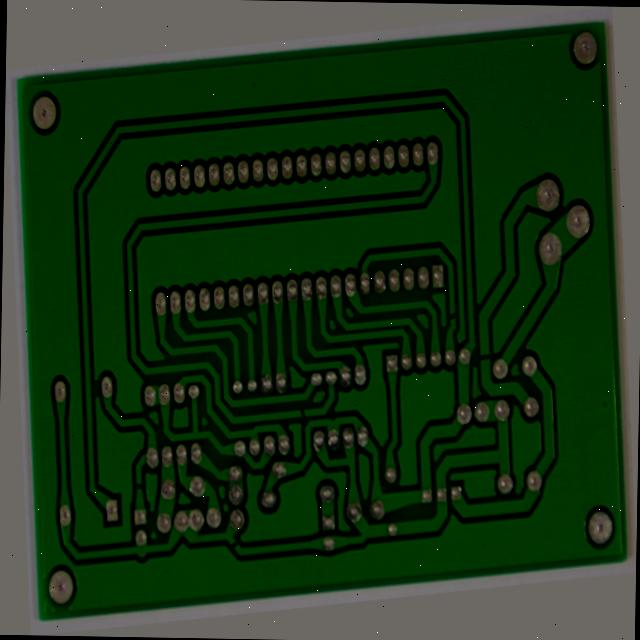open_circuit: (481, 374, 499, 391), (208, 550, 225, 568), (111, 471, 124, 490), (288, 415, 301, 432), (454, 322, 464, 343)
